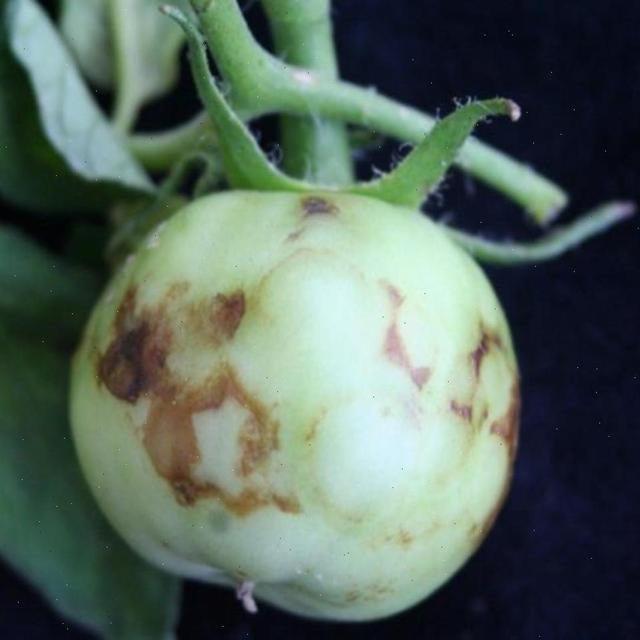Spotted wilt Virus Fruit: (83, 58, 185, 204)
